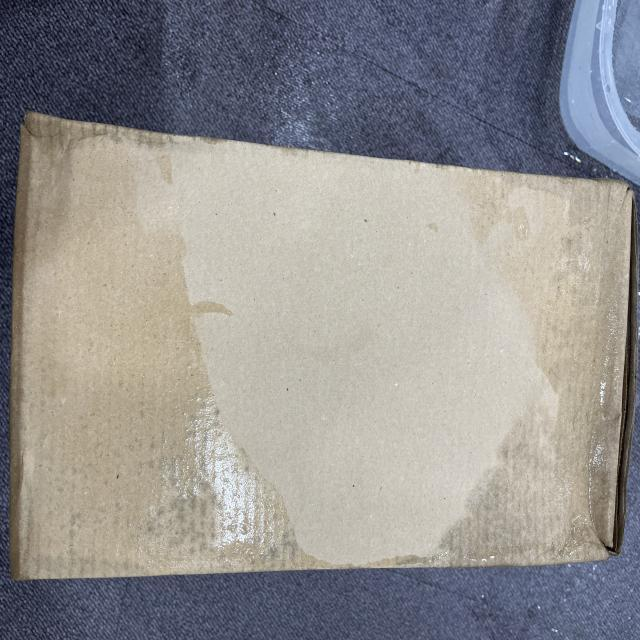wet: (15, 155, 287, 564), (446, 169, 634, 565)
